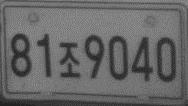0: (155, 36, 178, 83), (108, 35, 129, 80)
1: (36, 32, 52, 79)
4: (129, 34, 153, 83)
8: (9, 31, 32, 78)
9: (84, 34, 105, 80)
조: (58, 40, 81, 80)
